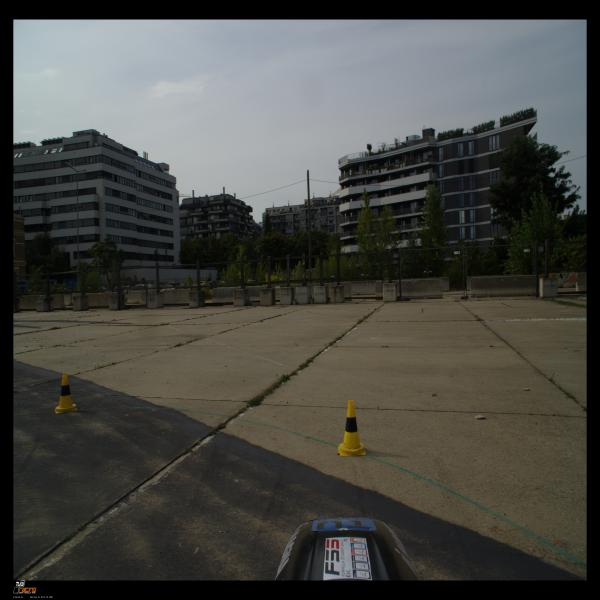yellow_cone: (338, 400, 366, 456), (55, 373, 77, 414)
